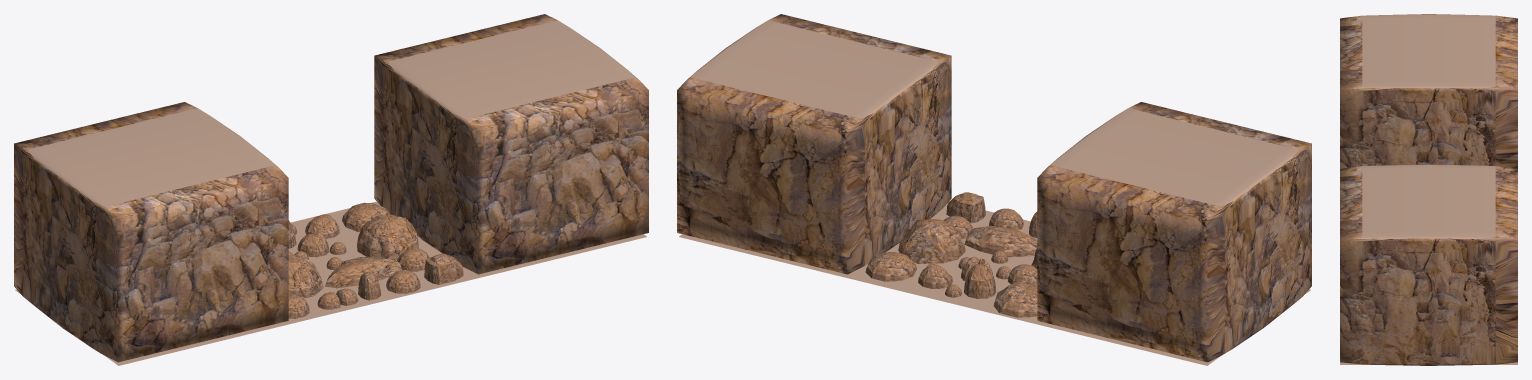
File: PitfallProxy.fbx
3 renders of one model, left to right at view 1: azimuth 30°, elevation 25°; view 2: azimuth 150°, elevation 25°; view 3: azimuth 270°, elevation 25°, orthographic. The views are drawn at different scales.
Visible parts, largest first — view 1: LeftGround, RightGround, Base, pSphere8, pSphere11, pSphere7, pSphere18, pSphere21, pSphere3, pSphere15, pSphere4, pSphere6 (+1 smaller); view 2: LeftGround, RightGround, Base, pSphere8, pSphere11, pSphere14, pSphere21, pSphere16, pSphere18, pSphere4, pSphere3, pSphere5; view 3: RightGround, LeftGround.
Boxes of the visible parts, x1=… form: LeftGround: x1=14, y1=102, x2=288, y2=362; RightGround: x1=374, y1=14, x2=648, y2=274; Base: x1=15, y1=201, x2=646, y2=365; pSphere8: x1=357, y1=214, x2=418, y2=260; pSphere11: x1=325, y1=257, x2=401, y2=288; pSphere7: x1=288, y1=255, x2=323, y2=298; pSphere18: x1=424, y1=253, x2=463, y2=284; pSphere21: x1=342, y1=202, x2=389, y2=231; pSphere3: x1=386, y1=270, x2=420, y2=293; pSphere15: x1=297, y1=230, x2=329, y2=257; pSphere4: x1=305, y1=214, x2=339, y2=239; pSphere6: x1=397, y1=248, x2=429, y2=271; LeftGround: x1=1037, y1=102, x2=1311, y2=362; RightGround: x1=677, y1=14, x2=951, y2=274; Base: x1=679, y1=202, x2=1310, y2=365; pSphere8: x1=898, y1=219, x2=965, y2=263; pSphere11: x1=964, y1=225, x2=1037, y2=257; pSphere14: x1=993, y1=281, x2=1037, y2=317; pSphere21: x1=865, y1=252, x2=916, y2=281; pSphere16: x1=964, y1=258, x2=996, y2=298; pSphere18: x1=946, y1=192, x2=985, y2=223; pSphere4: x1=918, y1=264, x2=952, y2=288; pSphere3: x1=989, y1=208, x2=1023, y2=230; pSphere5: x1=1007, y1=264, x2=1037, y2=285; RightGround: x1=1340, y1=164, x2=1517, y2=365; LeftGround: x1=1340, y1=14, x2=1517, y2=168.
Bounding box in the file's own units: 30 × 8.01 × 10.
